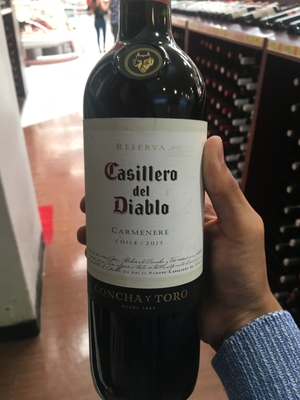casillero del diablo carmenere: (70, 24, 217, 389)
